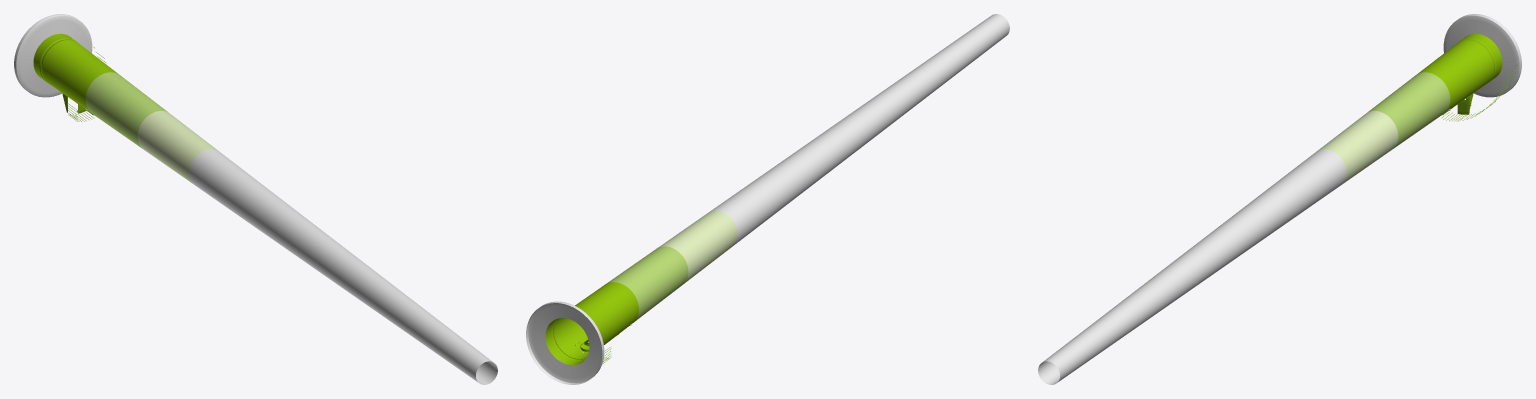
3 renders of one model, left to right at view 1: azimuth 30°, elevation 25°; view 2: azimuth 150°, elevation 25°; view 3: azimuth 330°, elevation 25°, orthographic.
Parts seen in each view (by area): view 1: Circle, Socle; view 2: Circle, Socle; view 3: Circle, Socle.
Part boxes in pixels (<box>): Circle: <box>33,33,497,384</box>; Socle: <box>14,14,92,97</box>; Circle: <box>545,14,1009,365</box>; Socle: <box>526,301,604,384</box>; Circle: <box>1038,33,1502,384</box>; Socle: <box>1443,14,1521,97</box>.
Size of the model in its own units: 8.66 by 8.68 by 85.65.
Materials: 9 (1 with a texture image).
